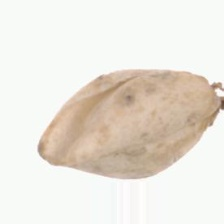L1: (35, 107, 83, 168), (192, 72, 224, 129)
L2: (38, 69, 223, 180)
